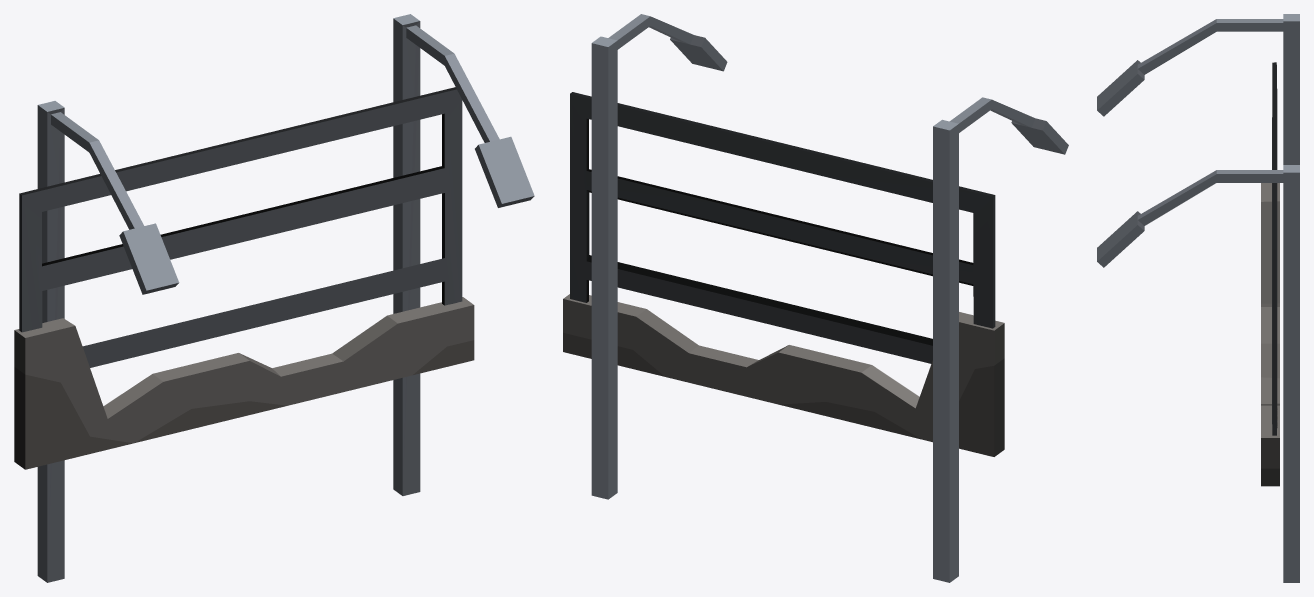
Rendered from Billboard_Burnt_01.fbx.
3 views of the same model, side by side, from view 1: azimuth 30°, elevation 25°; view 2: azimuth 150°, elevation 25°; view 3: azimuth 270°, elevation 25° (orthographic). The views are drawn at different scales.
Parts seen in each view (by area): view 1: Billboard_Burnt_01; view 2: Billboard_Burnt_01; view 3: Billboard_Burnt_01.
Boxes of the visible parts, x1,y1,x2,y2 form: Billboard_Burnt_01: (14, 14, 534, 582); Billboard_Burnt_01: (563, 14, 1068, 582); Billboard_Burnt_01: (1097, 14, 1299, 582).
Size of the model in its own units: 4.81 by 2.16 by 4.82.
